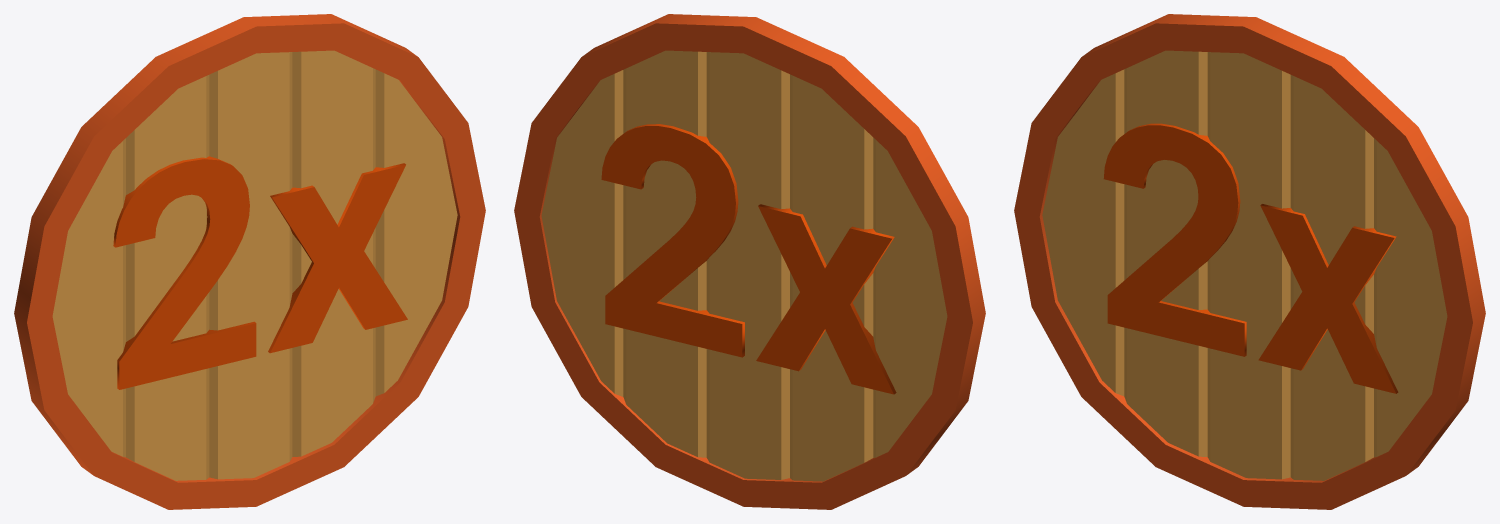
The model's file is shield.fbx.
The picture shows the model from 3 angles, left to right: view 1: azimuth 30°, elevation 25°; view 2: azimuth 150°, elevation 25°; view 3: azimuth 330°, elevation 25°; orthographic projection.
Parts seen in each view (by area): view 1: shield; view 2: shield; view 3: shield.
Part boxes in pixels (x1=…): shield: x1=14, y1=14, x2=485, y2=509; shield: x1=514, y1=14, x2=985, y2=509; shield: x1=1014, y1=14, x2=1485, y2=509.
Bounding box in the file's own units: 395 × 395 × 20.14.
